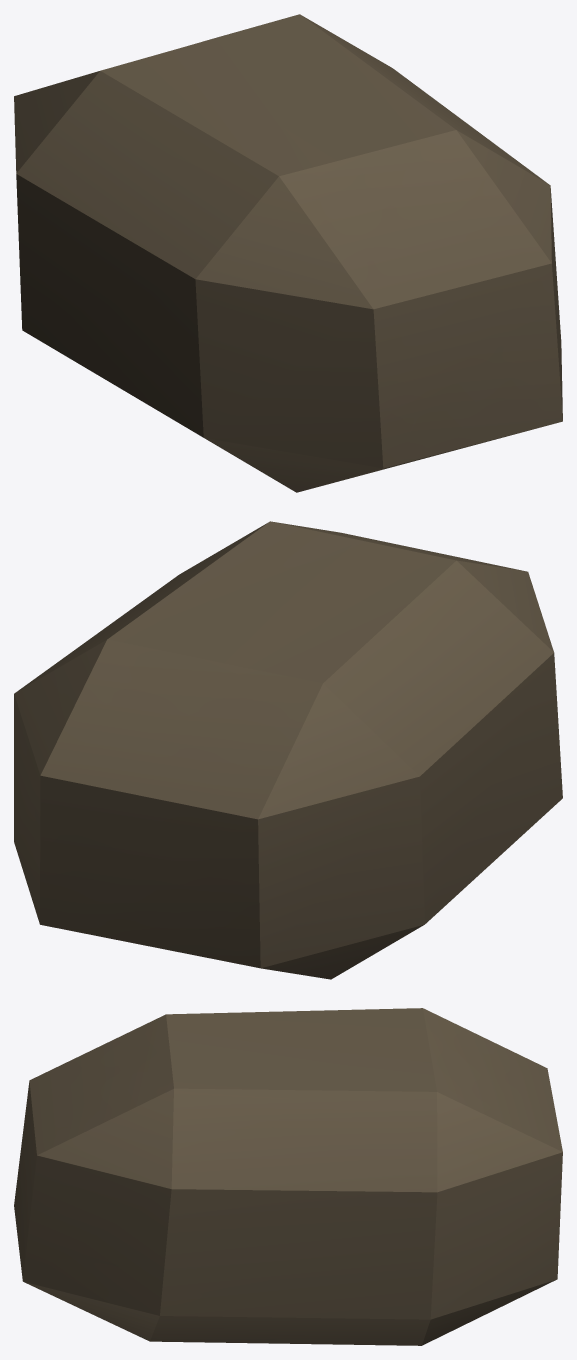
File: Pebble_B.fbx
3 views of the same model, one above another, from view 1: azimuth 30°, elevation 25°; view 2: azimuth 150°, elevation 25°; view 3: azimuth 270°, elevation 25° (orthographic). The views are drawn at different scales.
Visible parts, largest first — view 1: Pebble_B; view 2: Pebble_B; view 3: Pebble_B.
Part boxes in pixels (left/top/right/bottom): Pebble_B: left=14, top=14, right=562, bottom=492; Pebble_B: left=14, top=521, right=562, bottom=979; Pebble_B: left=14, top=1008, right=562, bottom=1345.
Bounding box in the file's own units: 6.42 × 4.8 × 9.39.
